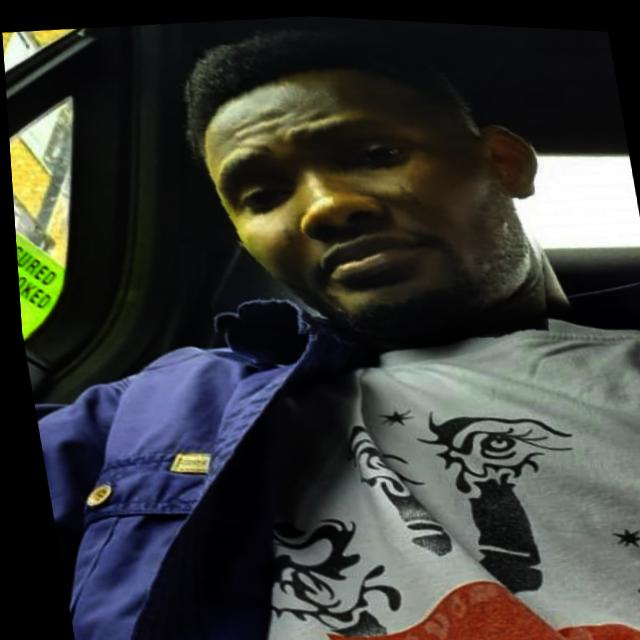sad: (168, 13, 561, 361)
